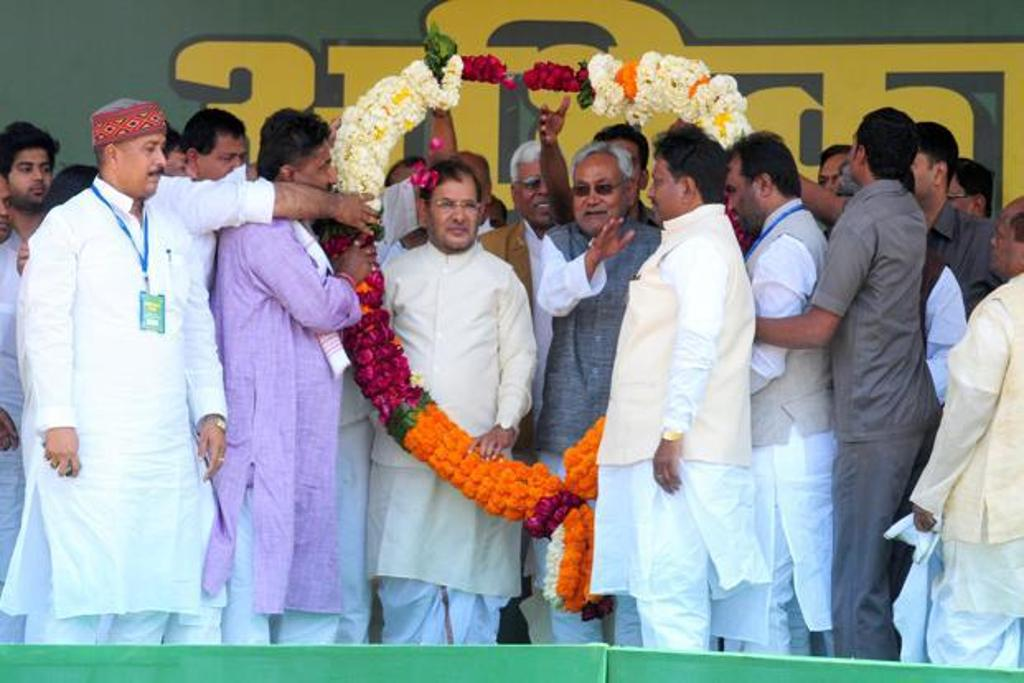face: (391, 180, 442, 246), (574, 174, 627, 233), (884, 149, 934, 209), (592, 151, 641, 212), (122, 132, 168, 196), (646, 165, 696, 223), (295, 153, 338, 218), (519, 170, 569, 224), (429, 192, 478, 245), (149, 159, 197, 213), (203, 142, 249, 198), (819, 169, 864, 222), (930, 186, 973, 240), (462, 210, 504, 264), (12, 154, 53, 206), (725, 172, 759, 233), (988, 214, 1019, 274), (849, 128, 876, 179)
